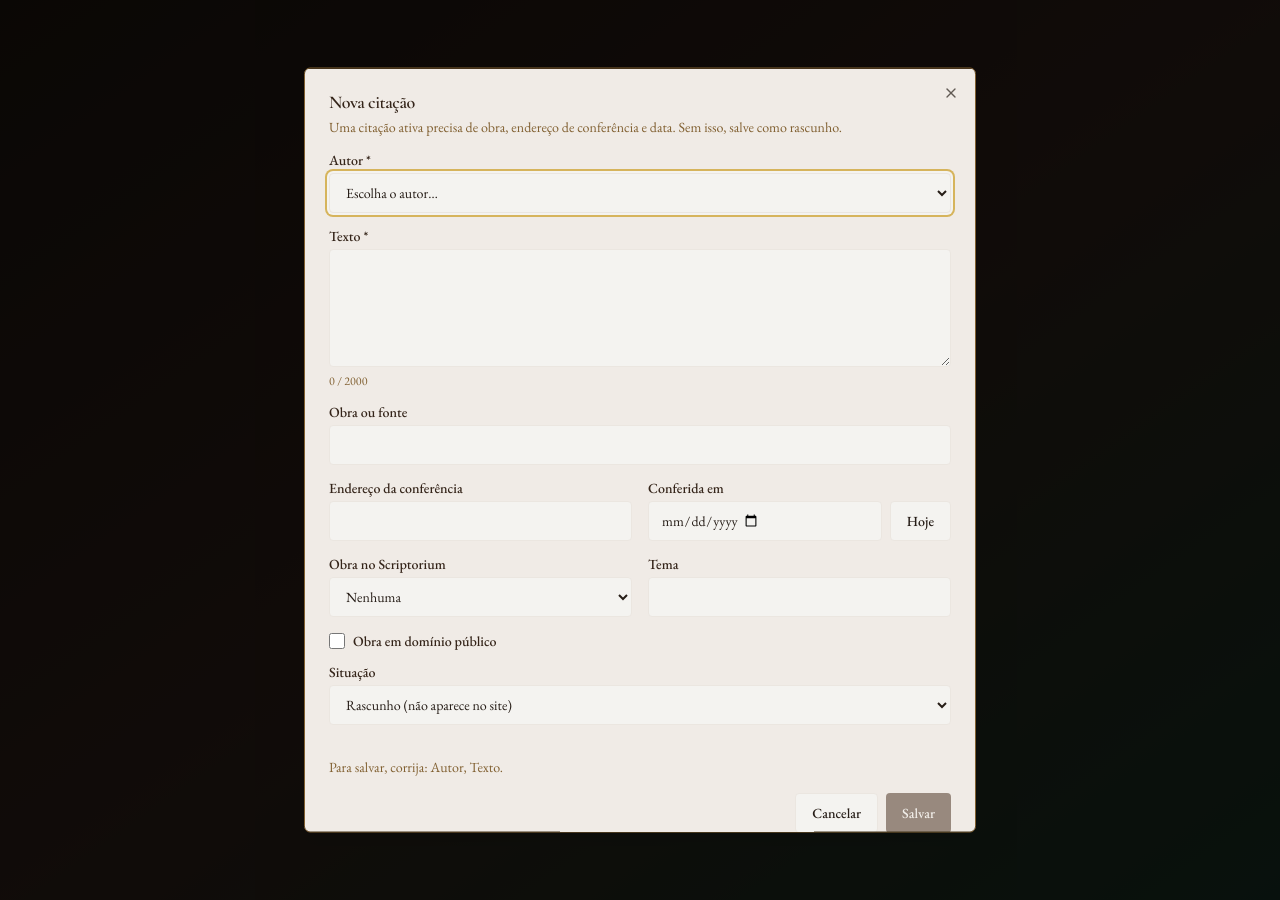
Test case: QuoteFormDialog › mostra o contador e não interpreta HTML do texto
Type "<b>x</b>" into the text box labelled "Texto *". click: point(640, 308)
box: [329,248,951,366]
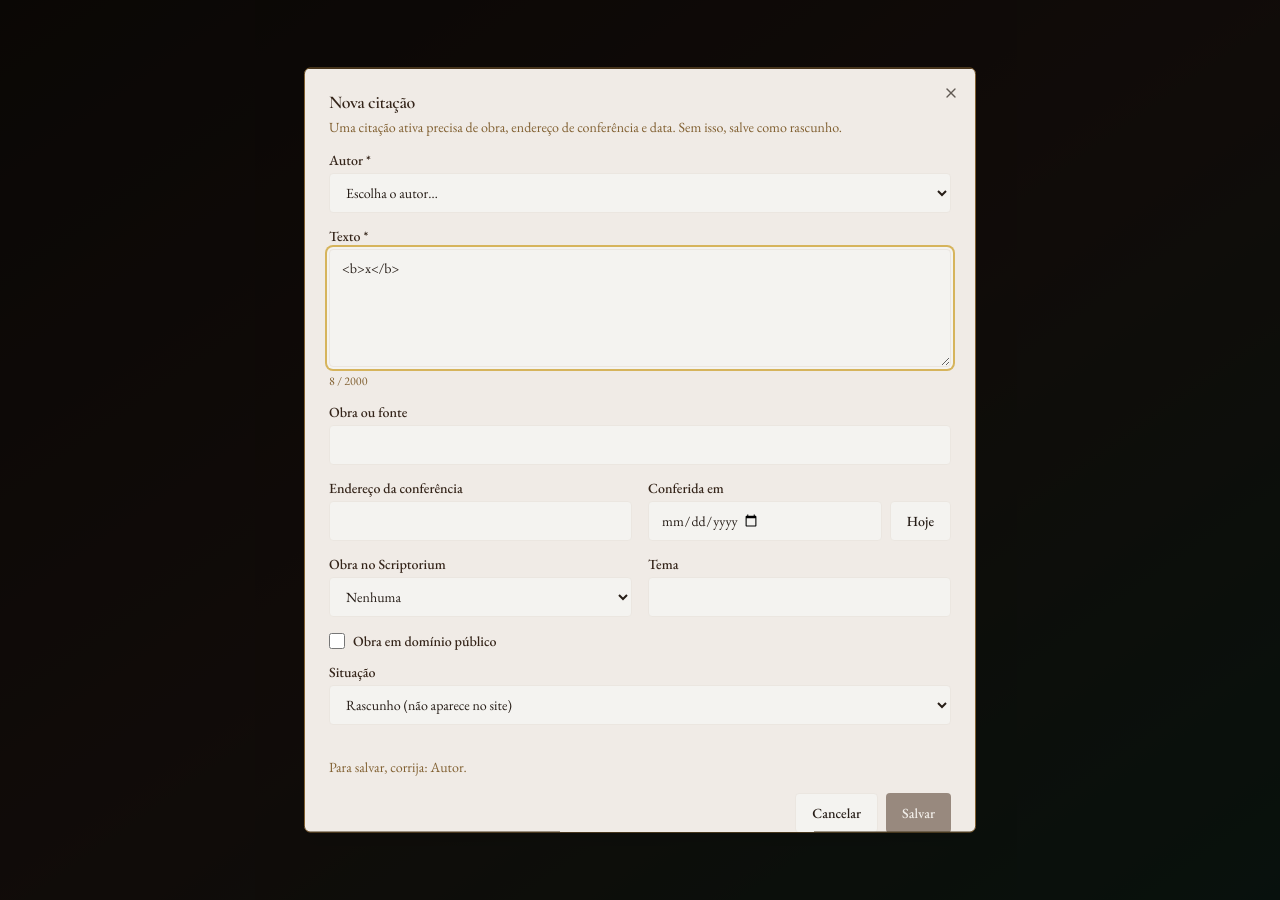
Check: the text "8 / 2000" is shown, box [329,372,367,388]
